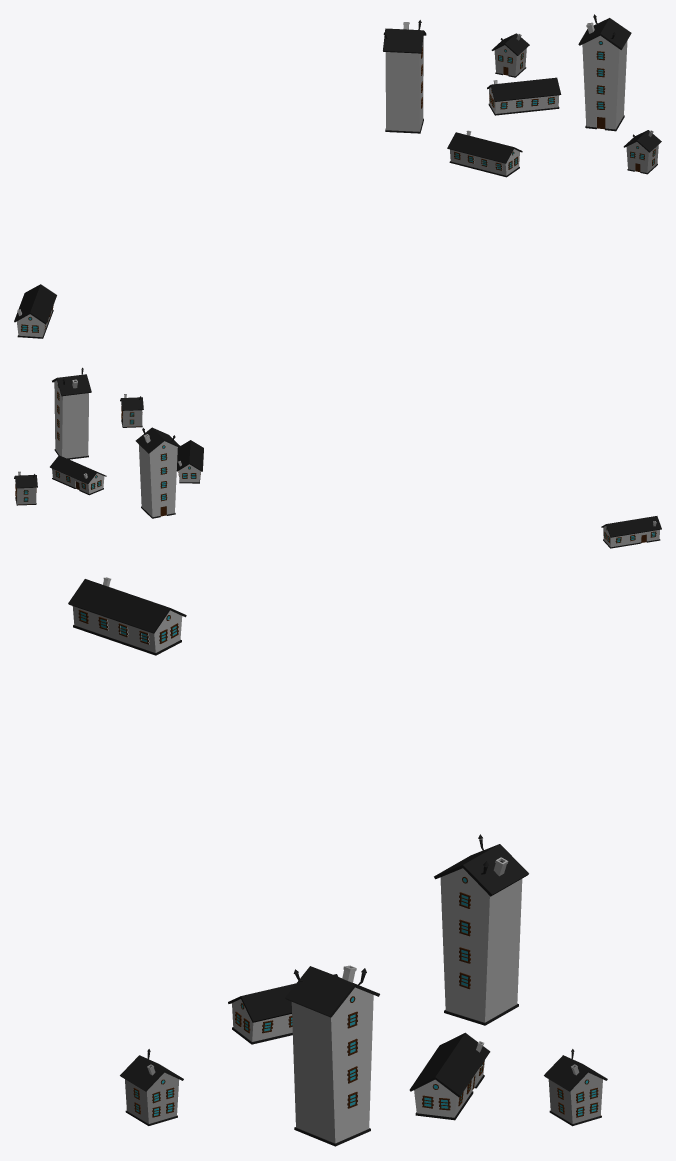
File: HousesTwo.obj
The picture shows the model from 3 angles, top to bottom: view 1: azimuth 30°, elevation 25°; view 2: azimuth 150°, elevation 25°; view 3: azimuth 270°, elevation 25°; orthographic projection. The views are drawn at different scales.
Visible parts, largest first — view 1: h1.004_h1.010_white.014, h1.012_h1.018_white.019, h1.003_h1.003_roof.023, h1.024_h1.030_roof.022, h1.008_h1.014_roof.016, h1.011_h1.017_roof.019, h1.002_h1.009_roof.014, h1.023_h1.029_white.022, h1.027_h1.033_white.023, h1.020_h1.026_white.021, h1.016_h1.022_white.020, h1.007_h1.013_white.016; view 2: h1.012_h1.018_white.019, h1.004_h1.010_white.014, h1.008_h1.014_roof.016, h1.003_h1.003_roof.023, h1.024_h1.030_roof.022, h1.002_h1.009_roof.014, h1.011_h1.017_roof.019, h1.007_h1.013_white.016, h1.027_h1.033_white.023, h1.019_h1.025_roof.021, h1.015_h1.021_roof.020, h1.020_h1.026_white.021 (+2 smaller); view 3: h1.004_h1.010_white.014, h1.012_h1.018_white.019, h1.008_h1.014_roof.016, h1.003_h1.003_roof.023, h1.002_h1.009_roof.014, h1.011_h1.017_roof.019, h1.007_h1.013_white.016, h1.020_h1.026_white.021, h1.016_h1.022_white.020, h1.024_h1.030_roof.022, h1.027_h1.033_white.023, h1.015_h1.021_roof.020 (+2 smaller).
Boxes of the visible parts, bbox=[...] form: h1.004_h1.010_white.014: bbox=[582, 22, 627, 129]; h1.012_h1.018_white.019: bbox=[385, 22, 423, 131]; h1.003_h1.003_roof.023: bbox=[487, 77, 561, 115]; h1.024_h1.030_roof.022: bbox=[447, 132, 522, 177]; h1.008_h1.014_roof.016: bbox=[14, 284, 56, 338]; h1.011_h1.017_roof.019: bbox=[383, 20, 426, 133]; h1.002_h1.009_roof.014: bbox=[578, 14, 631, 131]; h1.023_h1.029_white.022: bbox=[450, 130, 519, 175]; h1.027_h1.033_white.023: bbox=[489, 80, 558, 113]; h1.020_h1.026_white.021: bbox=[626, 130, 658, 172]; h1.016_h1.022_white.020: bbox=[494, 34, 526, 76]; h1.007_h1.013_white.016: bbox=[16, 309, 52, 337]; h1.012_h1.018_white.019: bbox=[139, 434, 177, 517]; h1.004_h1.010_white.014: bbox=[54, 379, 88, 458]; h1.008_h1.014_roof.016: bbox=[601, 516, 661, 548]; h1.003_h1.003_roof.023: bbox=[50, 455, 106, 495]; h1.024_h1.030_roof.022: bbox=[176, 440, 203, 483]; h1.002_h1.009_roof.014: bbox=[52, 367, 91, 459]; h1.011_h1.017_roof.019: bbox=[135, 427, 180, 518]; h1.007_h1.013_white.016: bbox=[603, 521, 659, 547]; h1.027_h1.033_white.023: bbox=[52, 468, 104, 493]; h1.019_h1.025_roof.021: bbox=[120, 396, 143, 427]; h1.015_h1.021_roof.020: bbox=[14, 474, 37, 505]; h1.020_h1.026_white.021: bbox=[121, 394, 142, 426]; h1.004_h1.010_white.014: bbox=[291, 965, 373, 1143]; h1.012_h1.018_white.019: bbox=[440, 857, 522, 1022]; h1.008_h1.014_roof.016: bbox=[68, 579, 186, 655]; h1.003_h1.003_roof.023: bbox=[409, 1032, 490, 1120]; h1.002_h1.009_roof.014: bbox=[285, 966, 379, 1146]; h1.011_h1.017_roof.019: bbox=[434, 834, 528, 1025]; h1.007_h1.013_white.016: bbox=[72, 577, 182, 652]; h1.020_h1.026_white.021: bbox=[125, 1064, 179, 1123]; h1.016_h1.022_white.020: bbox=[548, 1064, 602, 1123]; h1.024_h1.030_roof.022: bbox=[228, 974, 337, 1044]; h1.027_h1.033_white.023: bbox=[414, 1041, 484, 1117]; h1.015_h1.021_roof.020: bbox=[544, 1049, 607, 1126].
Size of the model in its own units: 7.36 by 1.04 by 3.11.
